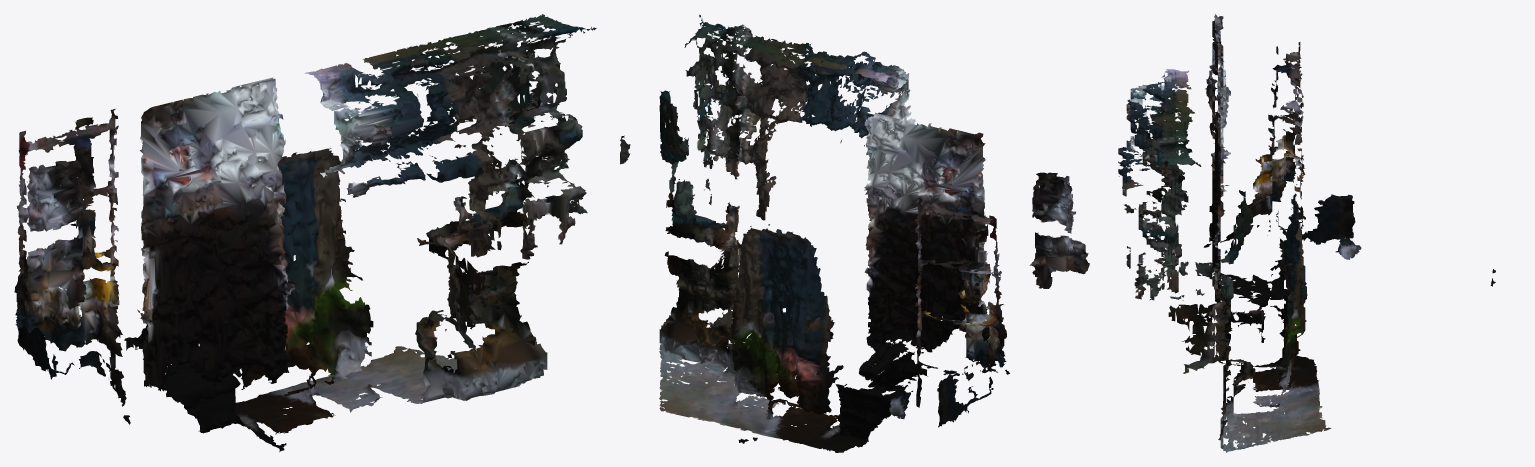
The model's file is mesh_iter_0001.obj.
The picture shows the model from 3 angles, left to right: view 1: azimuth 30°, elevation 25°; view 2: azimuth 150°, elevation 25°; view 3: azimuth 270°, elevation 25°; orthographic projection. The views are drawn at different scales.
Size of the model in its own units: 2.86 by 2.01 by 2.43.
